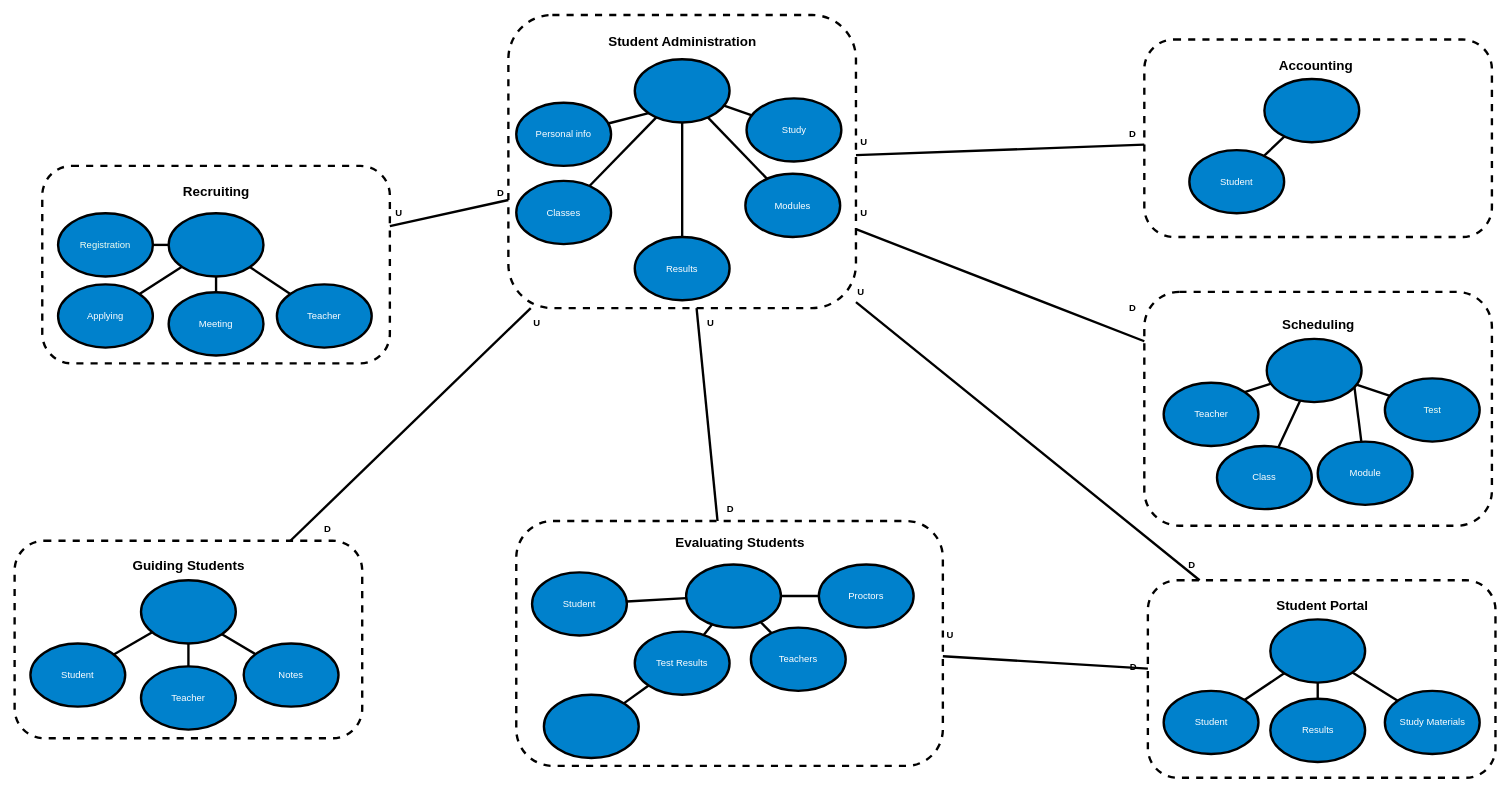
Image size: 1510x792. Some labels were removed from this diagram. Each missing label, with the centre of its shape:
Credits: the point at 591,726
Guidance talks: the point at 188,611
Information: the point at 1317,650
Lessons: the point at 1313,370
Payment: the point at 1311,110
Potential student: the point at 215,244
Student Information: the point at 681,90
Tests: the point at 733,595
